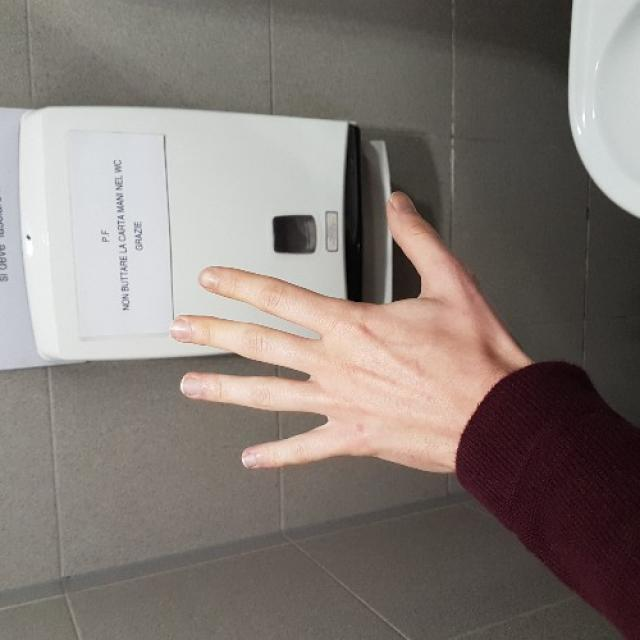paper: (168, 192, 463, 473)
